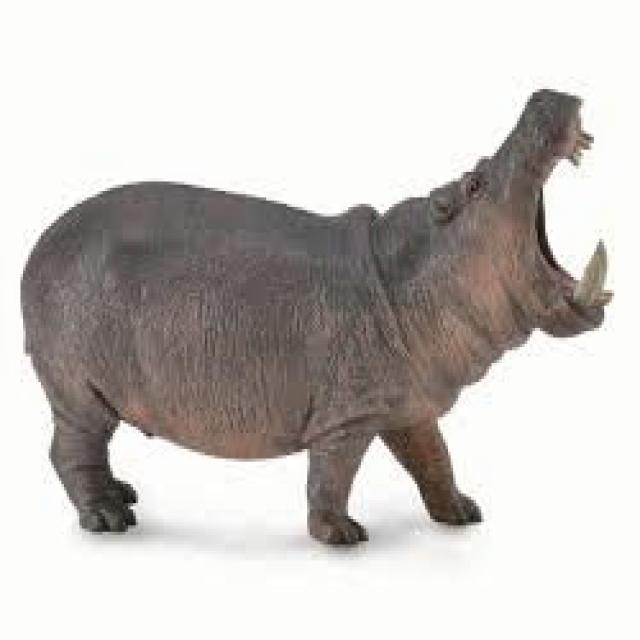hippopotamus: (20, 89, 609, 541)
